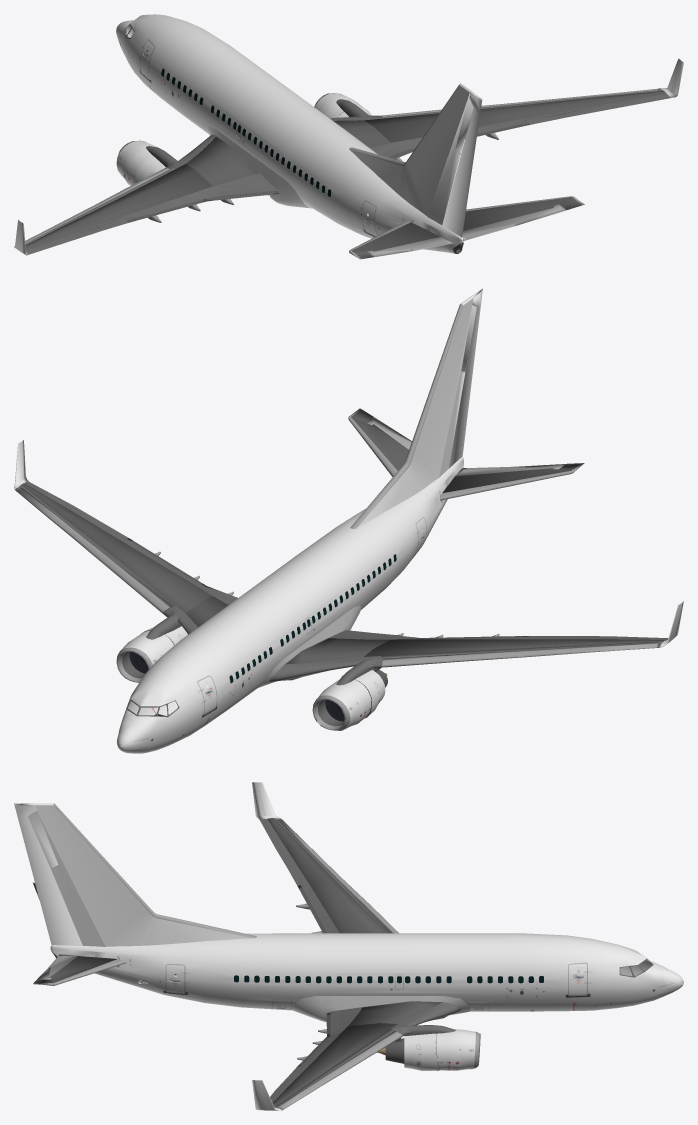
The picture shows the model from 3 angles, top to bottom: view 1: azimuth 30°, elevation 25°; view 2: azimuth 150°, elevation 25°; view 3: azimuth 270°, elevation 25°; orthographic projection. The views are drawn at different scales.
Visible parts, largest first — view 1: rootNode; view 2: rootNode; view 3: rootNode.
Boxes of the visible parts, x1,y1,x2,y2 form: rootNode: [14, 14, 683, 259]; rootNode: [14, 288, 683, 753]; rootNode: [14, 782, 683, 1110].
Bounding box in the file's own units: 34.85 × 12.04 × 33.12.
Materials: 5 (5 with a texture image).
